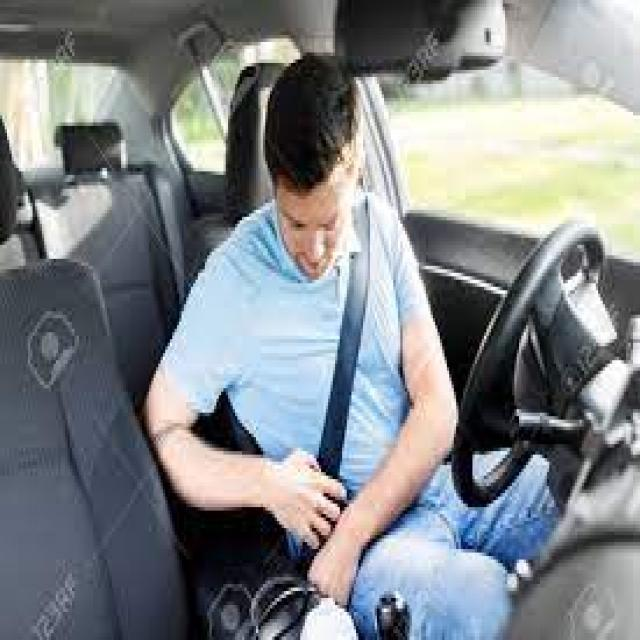seatbelt: (286, 161, 398, 563)
